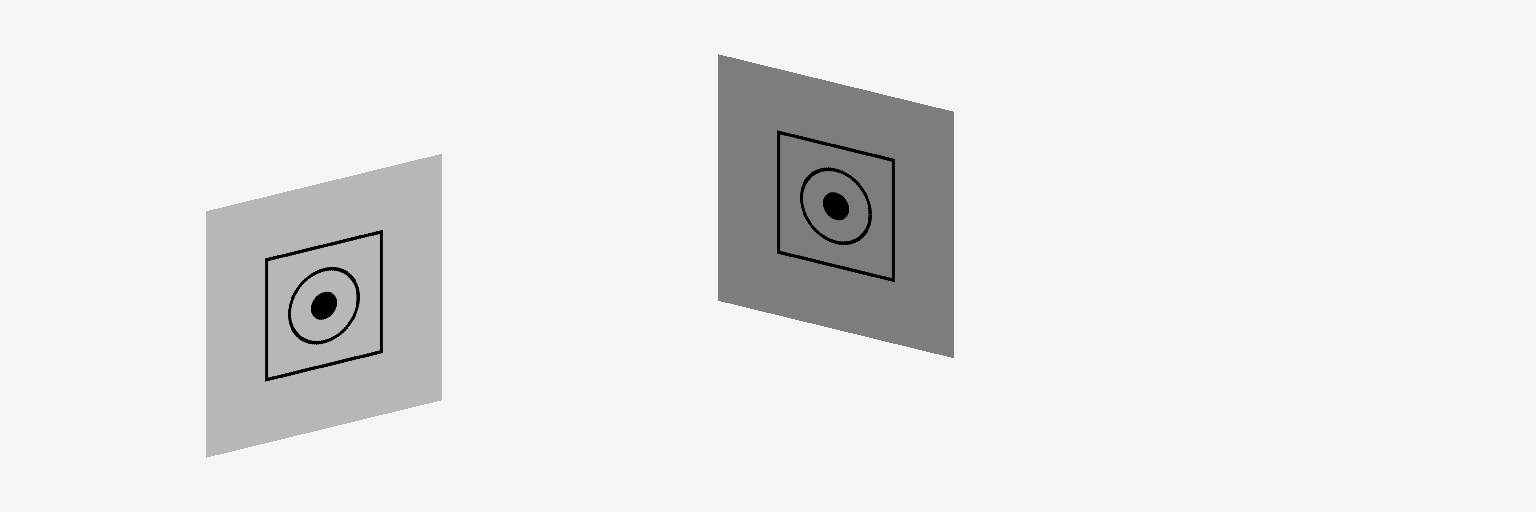
3 views of the same model, side by side, from view 1: azimuth 30°, elevation 25°; view 2: azimuth 150°, elevation 25°; view 3: azimuth 270°, elevation 25° (orthographic).
Visible parts, largest first — view 1: Mesh; view 2: Mesh; view 3: none.
Boxes of the visible parts, x1,y1,x2,y2 form: Mesh: [206, 154, 441, 457]; Mesh: [718, 54, 953, 357].
Bounding box in the file's own units: 50 × 50 × 50.
Materials: 2 (2 with a texture image).